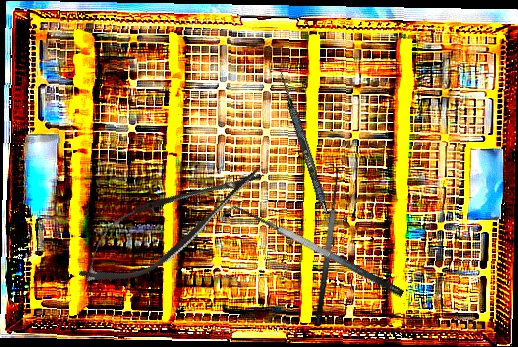Micro Scissor: (63, 141, 280, 305)
Spatula Surgical: (222, 195, 405, 312), (273, 70, 344, 248), (300, 163, 348, 327)
